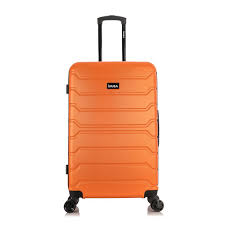suitcase: (62, 15, 165, 216)
